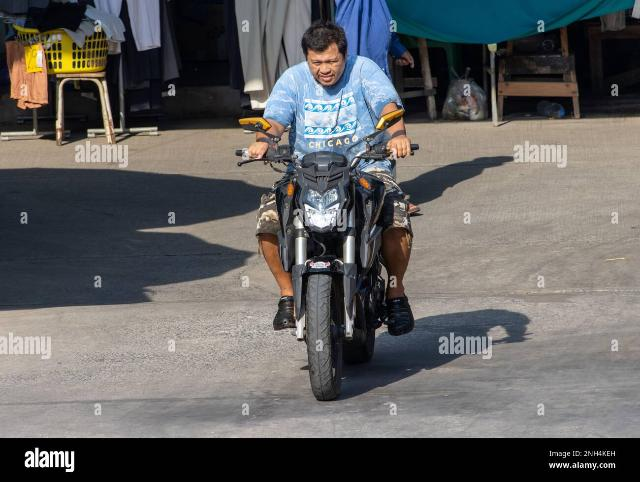motor: (234, 104, 426, 403)
non-helm: (303, 24, 350, 86)
